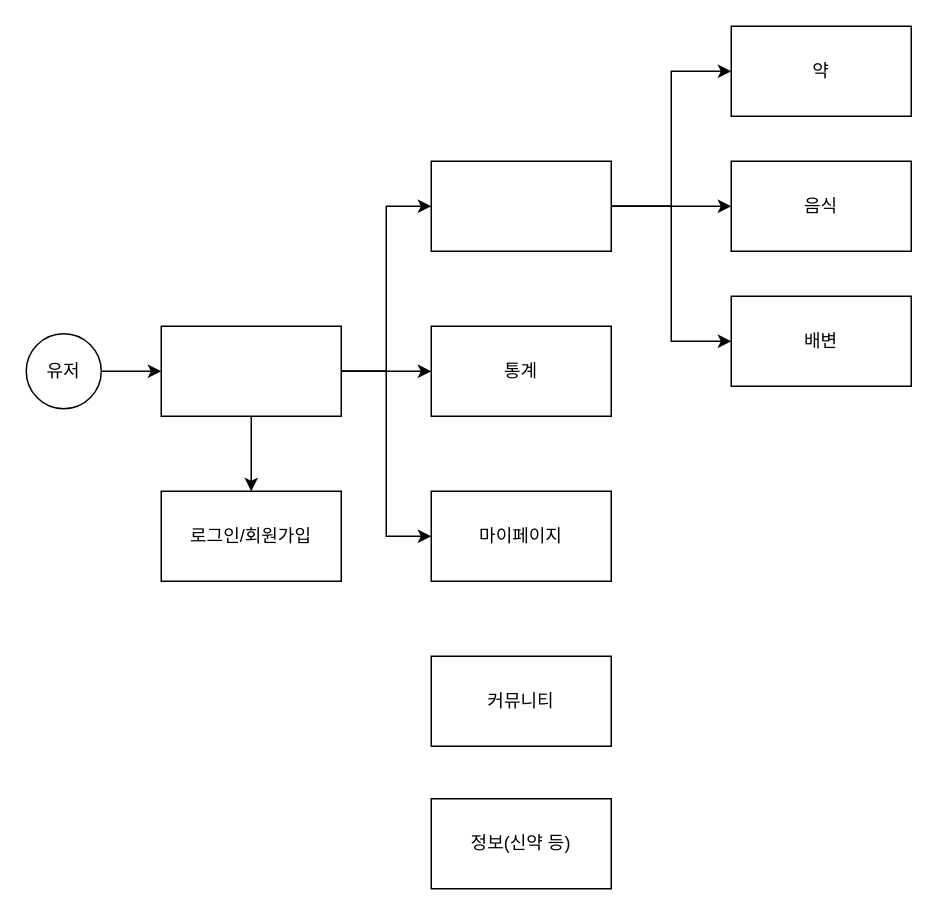
Some shapes in this 938 by 915 pixel diagram are drawn without their labels. The centre of each missing label's shape, as x and y in pixels:
기록: [520,205]
메인페이지: [250,370]
